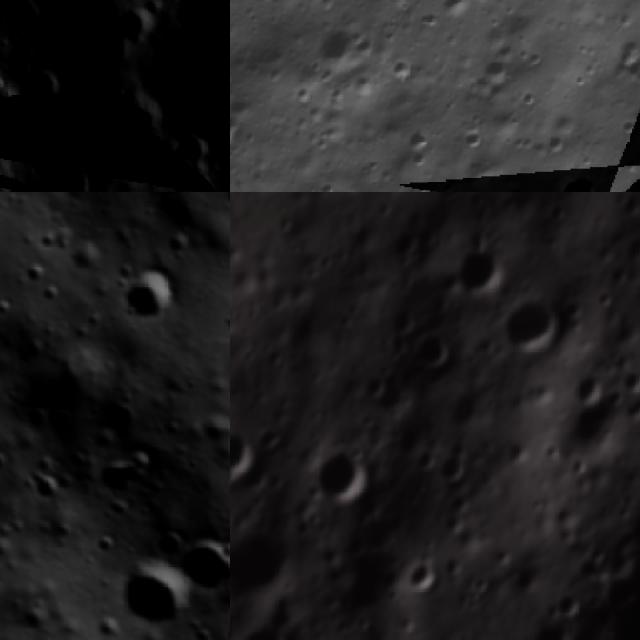crater: (230, 505, 313, 614), (546, 376, 638, 474), (106, 547, 198, 640), (487, 279, 575, 366), (301, 431, 386, 519), (107, 256, 190, 336), (302, 9, 381, 88), (482, 192, 622, 231), (447, 236, 514, 311), (90, 439, 162, 504), (169, 527, 230, 602), (356, 364, 426, 427), (446, 374, 504, 437), (464, 44, 522, 103), (31, 149, 110, 192), (96, 396, 152, 451), (396, 549, 449, 604), (0, 0, 54, 53), (412, 322, 466, 372), (596, 564, 640, 625), (423, 443, 476, 492), (144, 520, 195, 570), (494, 427, 544, 478), (388, 410, 436, 463), (511, 607, 582, 640), (565, 366, 613, 413), (166, 133, 217, 177), (547, 159, 613, 192), (230, 426, 262, 493), (253, 414, 298, 459), (232, 612, 303, 640), (436, 484, 479, 526), (383, 226, 425, 267), (230, 98, 255, 164), (386, 302, 424, 342), (552, 582, 589, 620), (435, 509, 470, 542), (463, 568, 496, 599), (230, 0, 241, 83), (415, 222, 444, 252), (618, 360, 640, 398), (172, 178, 227, 192), (326, 181, 369, 192)
